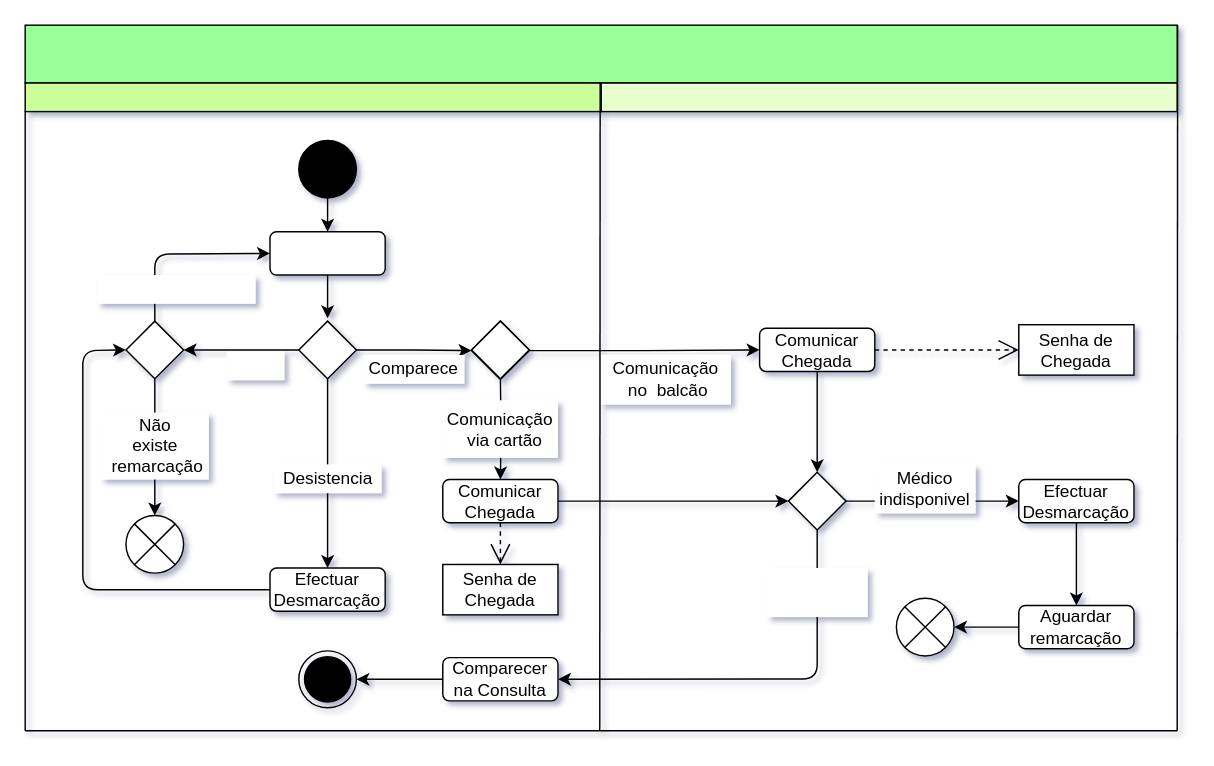
This 1214x766 diagram has some shape labels left out. Each missing label, with the box of its shape:
Balcão: (600, 81, 1177, 112)
Chegada do Utente: (24, 24, 1177, 83)
Executar Marcação: (269, 230, 385, 275)
Existe remarcação: (96, 274, 255, 303)
Falta: (226, 351, 284, 379)
Médico disponivel: (766, 567, 867, 616)
Utente: (24, 81, 601, 112)
